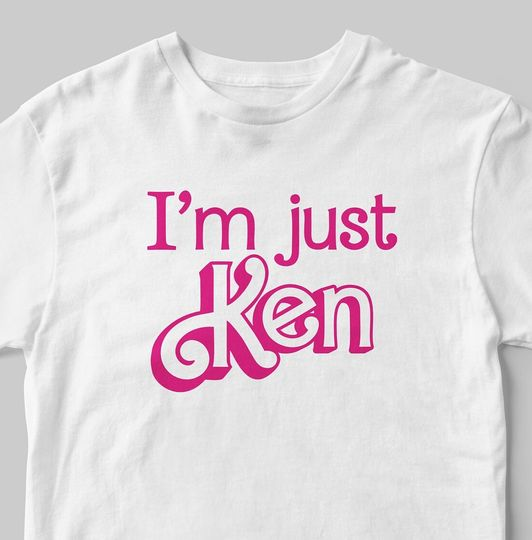design: (144, 187, 399, 393)
